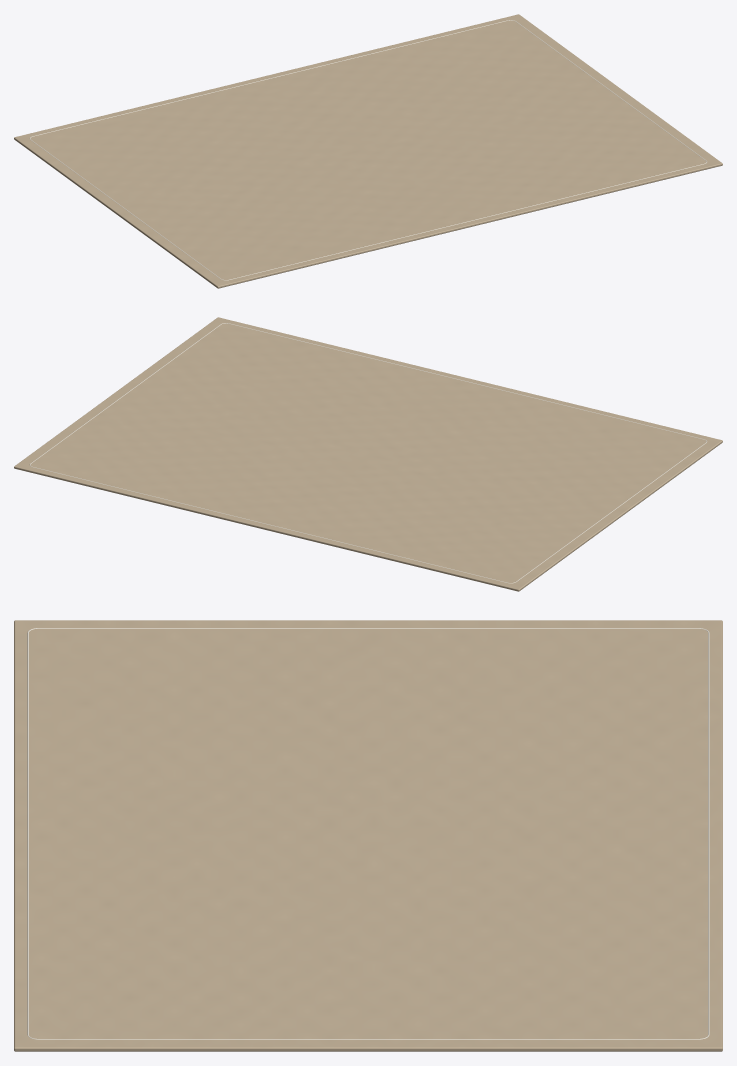
3 views of the same model, one above another, from view 1: azimuth 30°, elevation 25°; view 2: azimuth 150°, elevation 25°; view 3: azimuth 270°, elevation 25° (orthographic). The views are drawn at different scales.
Parts seen in each view (by area): view 1: rug, woven_border; view 2: rug, woven_border; view 3: rug, woven_border.
Boxes of the visible parts, x1,y1,x2,y2 form: rug: (14,14,722,288); woven_border: (29,20,707,280); rug: (14,317,722,591); woven_border: (29,323,707,583); rug: (14,620,722,1051); woven_border: (27,628,709,1039).
Size of the model in its own units: 2 by 0.01 by 1.4.
Materials: 2 (2 with a texture image).
